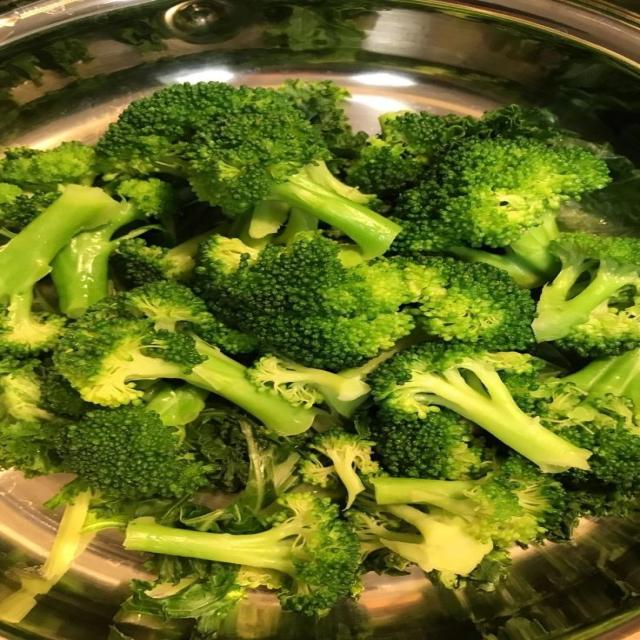broccoli: (98, 83, 399, 257), (195, 232, 534, 369), (54, 282, 315, 433), (195, 232, 414, 370), (349, 457, 566, 588), (369, 343, 590, 471), (125, 493, 359, 613), (394, 137, 609, 253), (0, 185, 120, 354), (347, 105, 559, 198), (371, 457, 565, 547), (56, 385, 208, 499), (52, 178, 174, 317), (182, 408, 306, 533), (536, 350, 639, 494), (395, 257, 535, 350), (534, 233, 639, 355), (0, 492, 93, 623), (349, 503, 493, 582), (113, 561, 259, 638), (347, 112, 476, 198), (368, 406, 484, 480), (448, 212, 560, 288), (279, 79, 366, 170), (247, 354, 370, 416), (0, 358, 63, 477), (299, 428, 380, 508), (265, 3, 369, 60), (187, 405, 253, 492), (563, 349, 639, 415), (114, 234, 210, 286), (0, 142, 99, 191), (0, 358, 52, 423), (0, 183, 60, 235), (40, 364, 97, 417), (39, 38, 93, 75)
